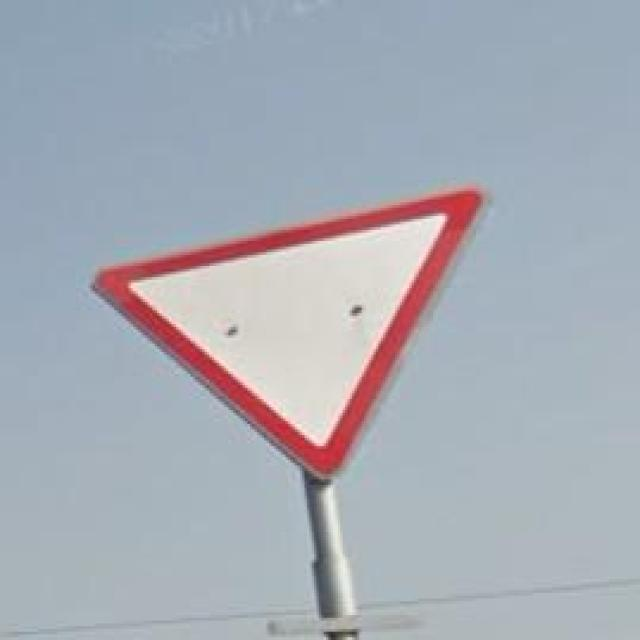give_way: (90, 188, 486, 476)
